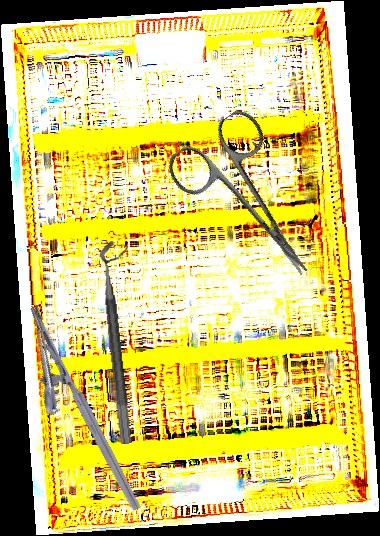Fixation Ring: (97, 239, 150, 445)
Iris Scissors: (160, 104, 344, 305)
Needle Holder: (0, 303, 143, 527)
